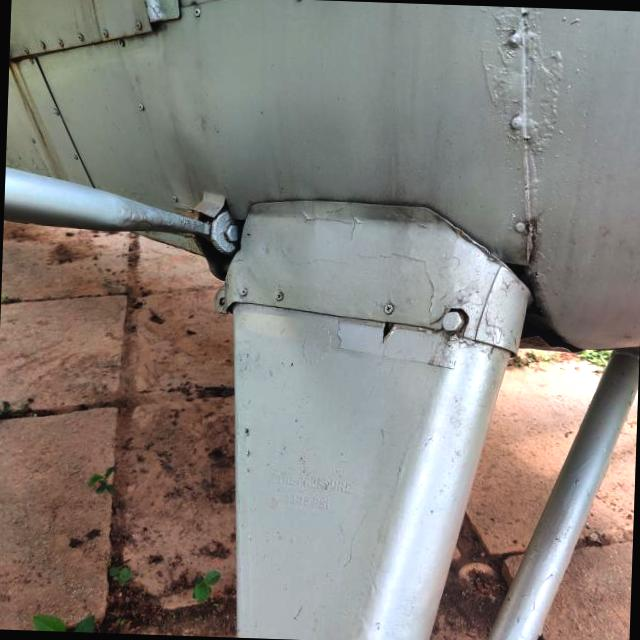crack: (366, 310, 410, 354)
